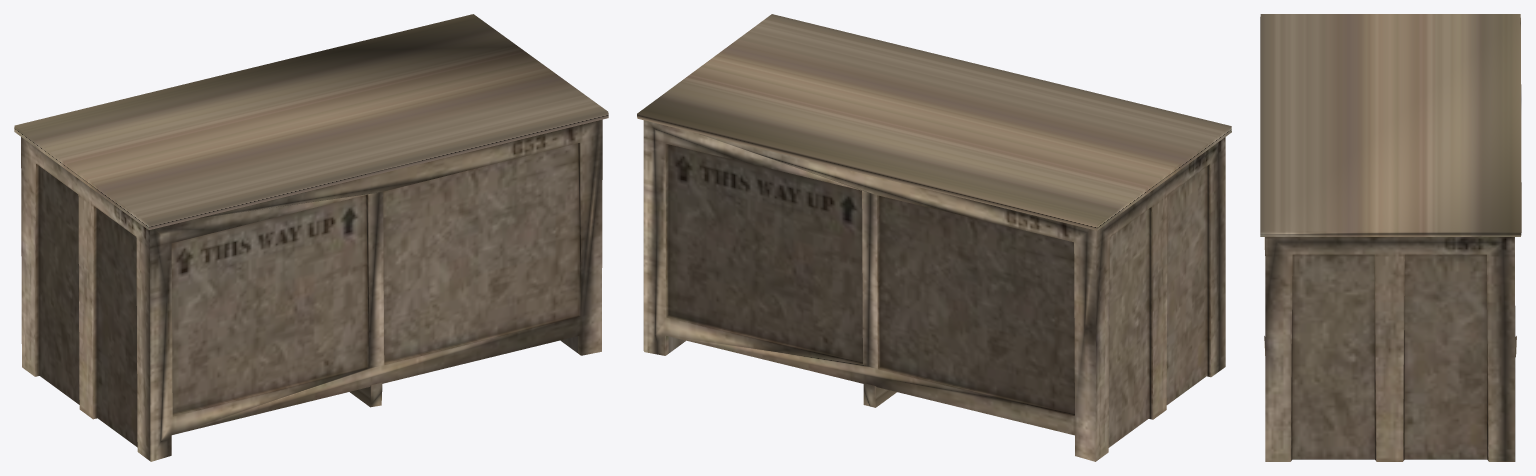
The model's file is wooden_crate_c_snow.glb.
3 views of the same model, side by side, from view 1: azimuth 30°, elevation 25°; view 2: azimuth 150°, elevation 25°; view 3: azimuth 270°, elevation 25° (orthographic). The views are drawn at different scales.
Parts seen in each view (by area): view 1: wooden_crate_c_snow; view 2: wooden_crate_c_snow; view 3: wooden_crate_c_snow.
Boxes of the visible parts, x1,y1,x2,y2 form: wooden_crate_c_snow: (14, 14, 608, 461); wooden_crate_c_snow: (637, 14, 1231, 461); wooden_crate_c_snow: (1260, 14, 1521, 461).
Bounding box in the file's own units: 2.03 × 1.02 × 1.03.
Materials: 1 (1 with a texture image).
